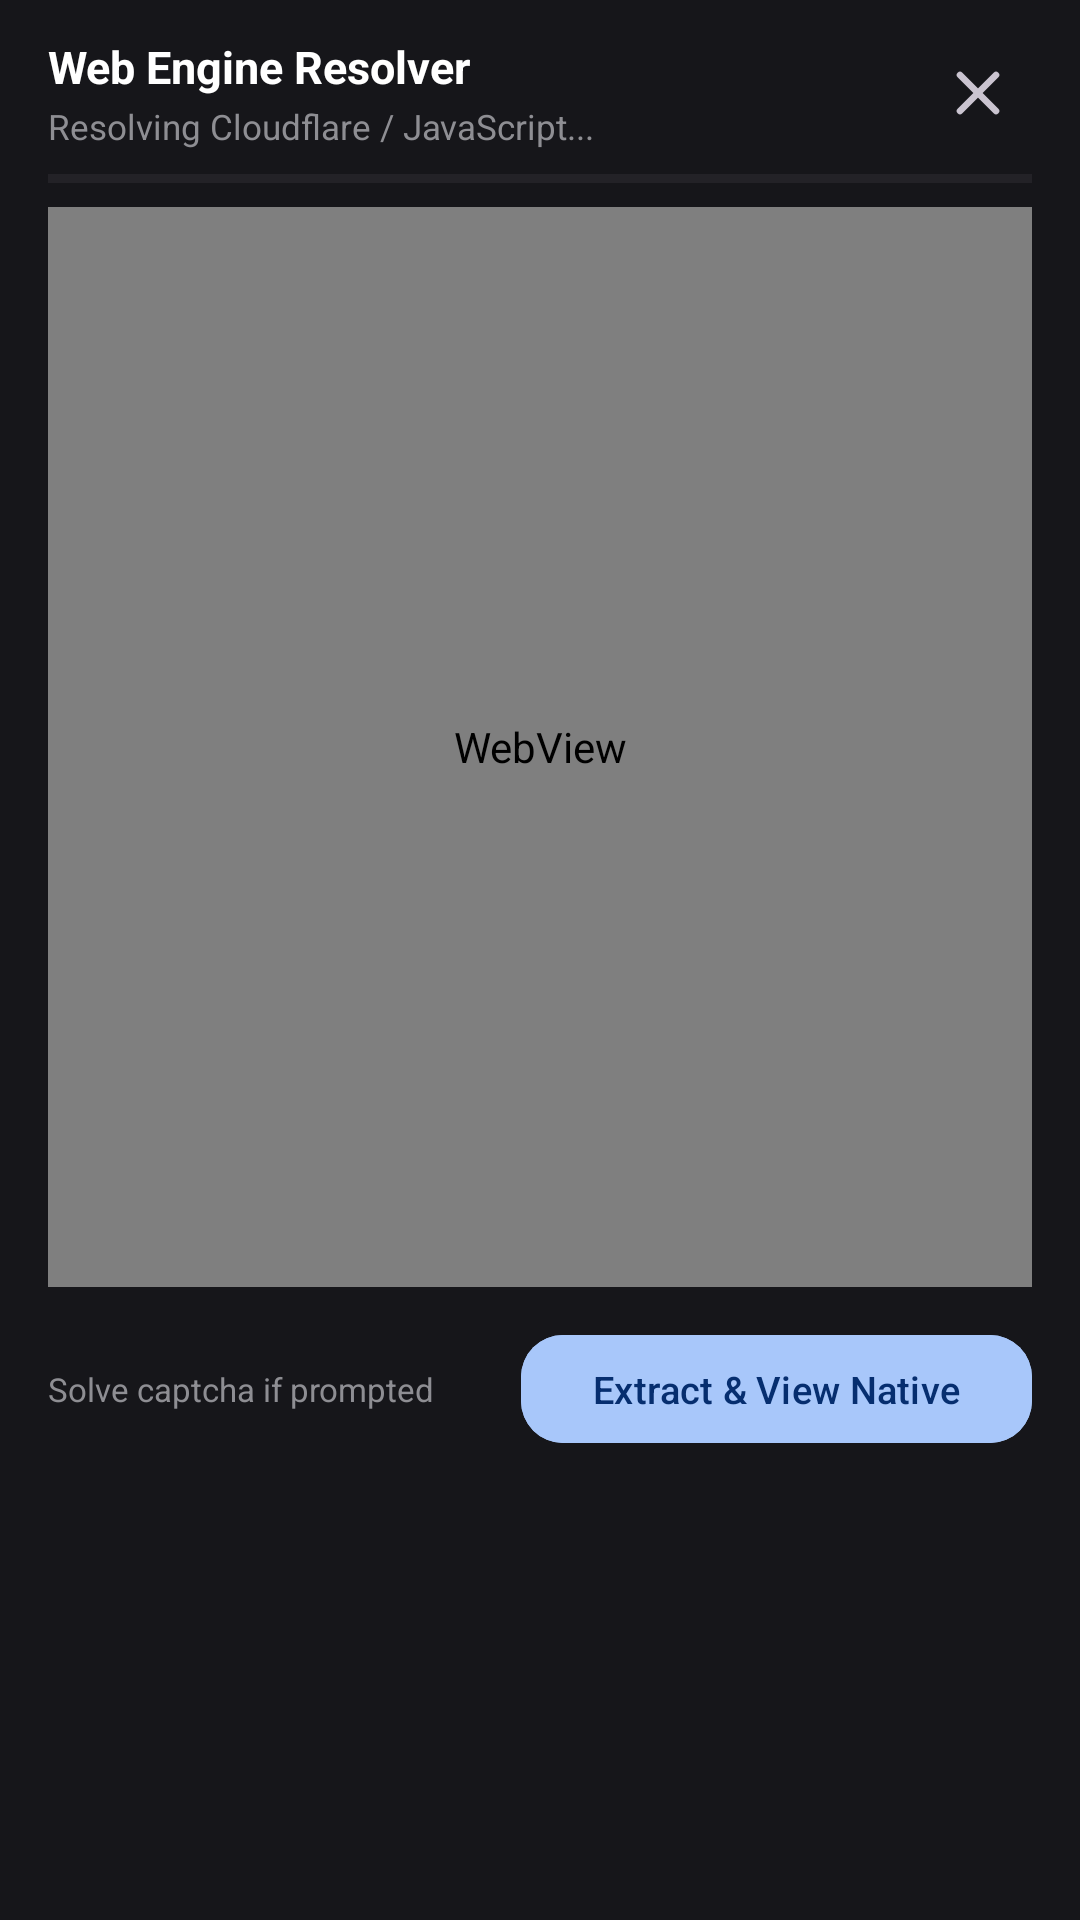

Icon bounding boxes for this 1080px×1920px phone screenshot, format box=[x1, y1, x2, y2]:
Close: box=[956, 71, 1000, 115]
